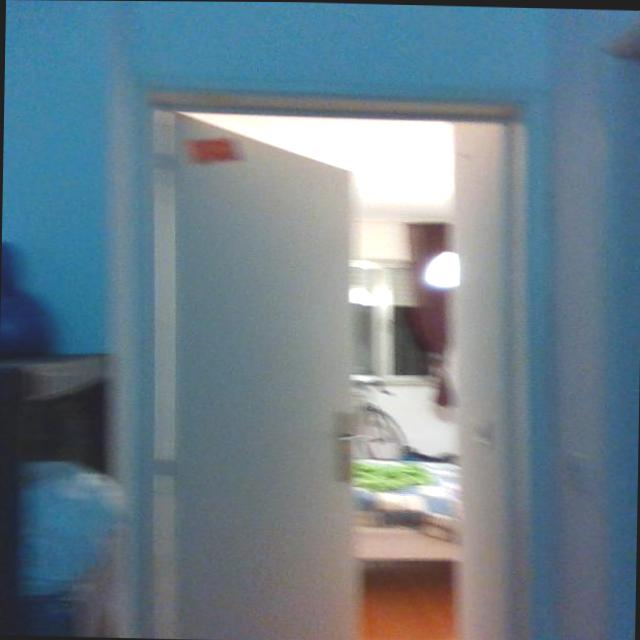semi-open: (86, 52, 566, 639)
